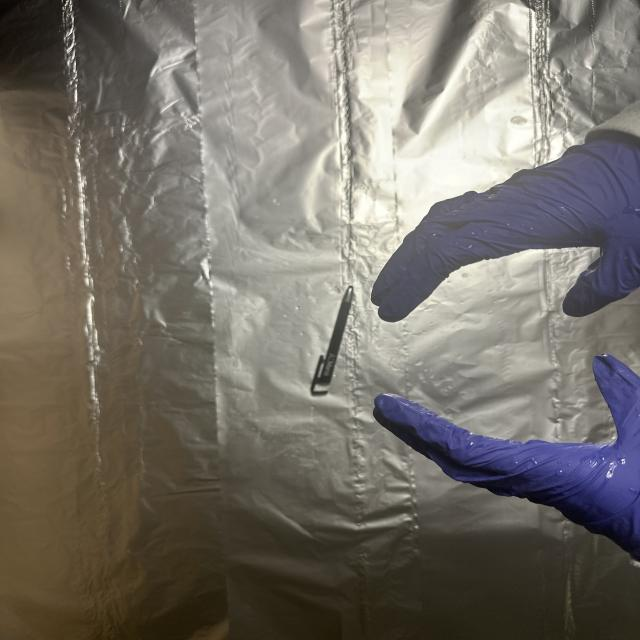gloves_contaminated: (373, 354, 640, 560), (371, 120, 640, 322)
